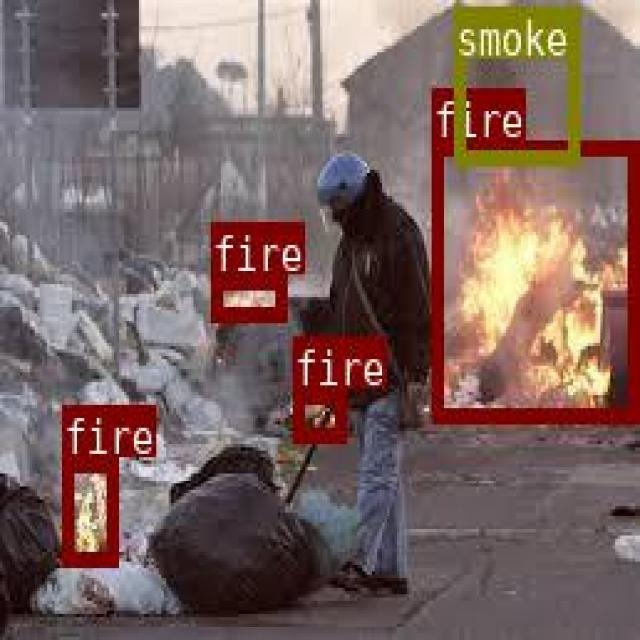fire: (431, 140, 635, 418), (61, 454, 116, 563), (209, 273, 285, 320), (290, 388, 343, 438)
smoke: (454, 4, 577, 163)
